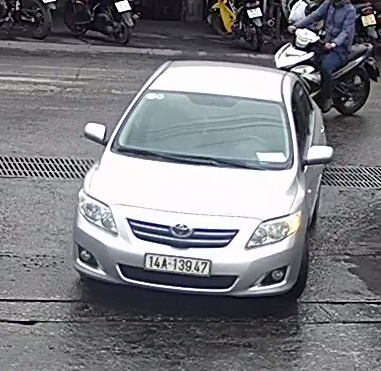vehicle plate: (142, 247, 211, 278)
